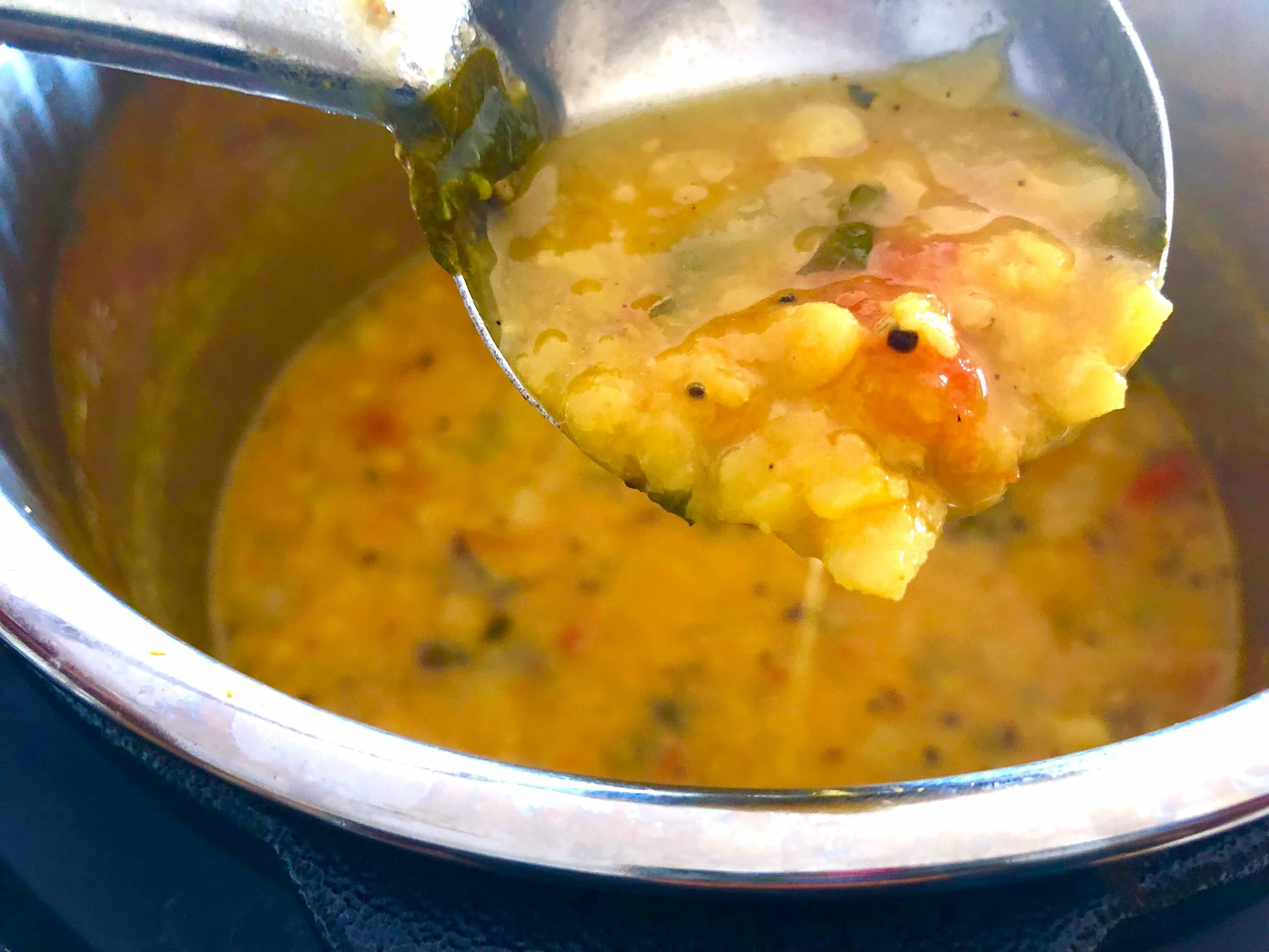Dal: (0, 0, 1269, 789)
